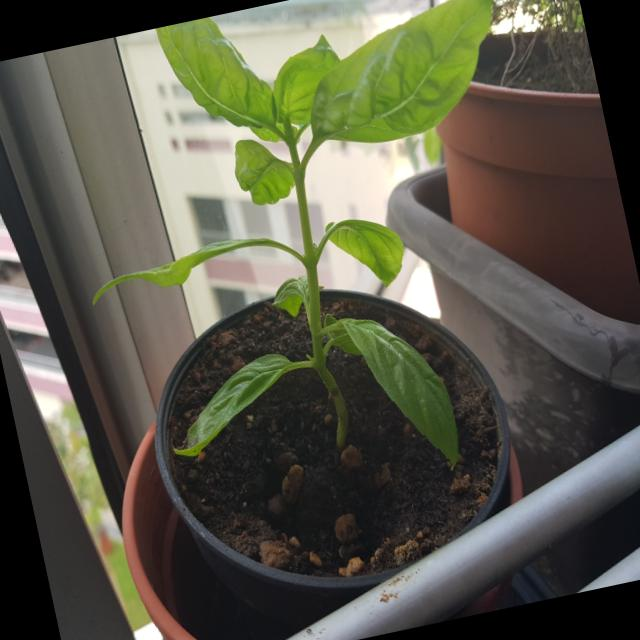Sweet Basil: (30, 0, 569, 563)
Thyme: (474, 0, 591, 78)
